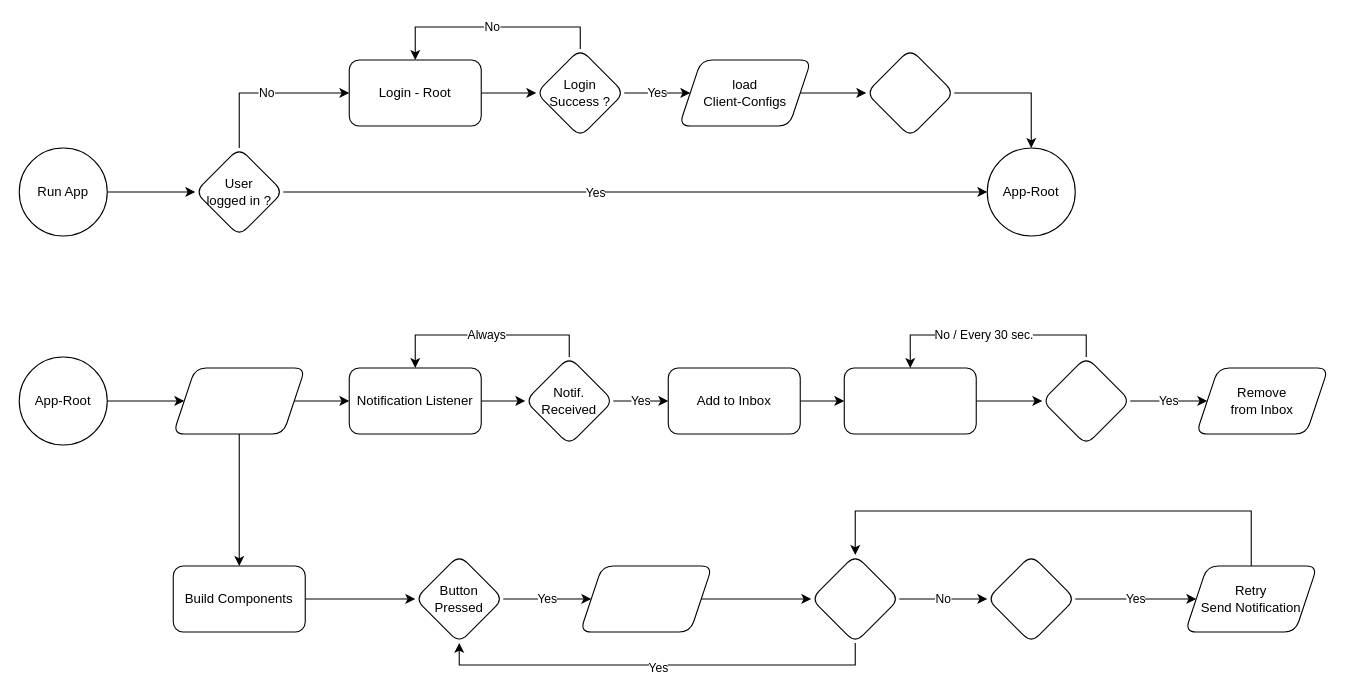
The diagram is 1348 pixels wide and 694 high, and some of its shapes have lost their labels. Each missing label, with the centre of its shape:
"Ack. Notif" goes at point (1085, 400).
"choose Config" goes at point (909, 92).
"Play Sound" goes at point (909, 400).
"Register Client" goes at point (238, 400).
"Retry?" goes at point (1030, 598).
"Send Notification" goes at point (645, 598).
"Success?" goes at point (854, 598).
